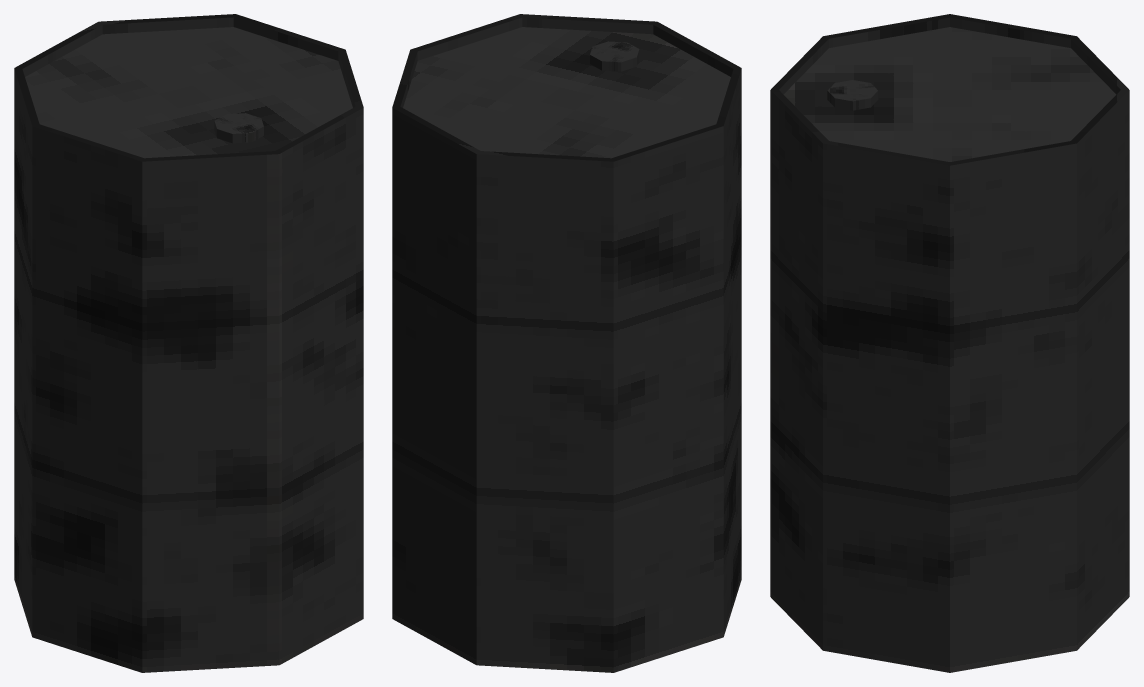
File: OilDrum.fbx
3 views of the same model, side by side, from view 1: azimuth 30°, elevation 25°; view 2: azimuth 150°, elevation 25°; view 3: azimuth 270°, elevation 25° (orthographic).
Parts seen in each view (by area): view 1: Cylinder; view 2: Cylinder; view 3: Cylinder.
Boxes of the visible parts, <box> form: Cylinder: <box>14,14,363,672</box>; Cylinder: <box>392,14,741,672</box>; Cylinder: <box>770,14,1129,672</box>.
Size of the model in its own units: 44.89 by 69.98 by 44.89.
